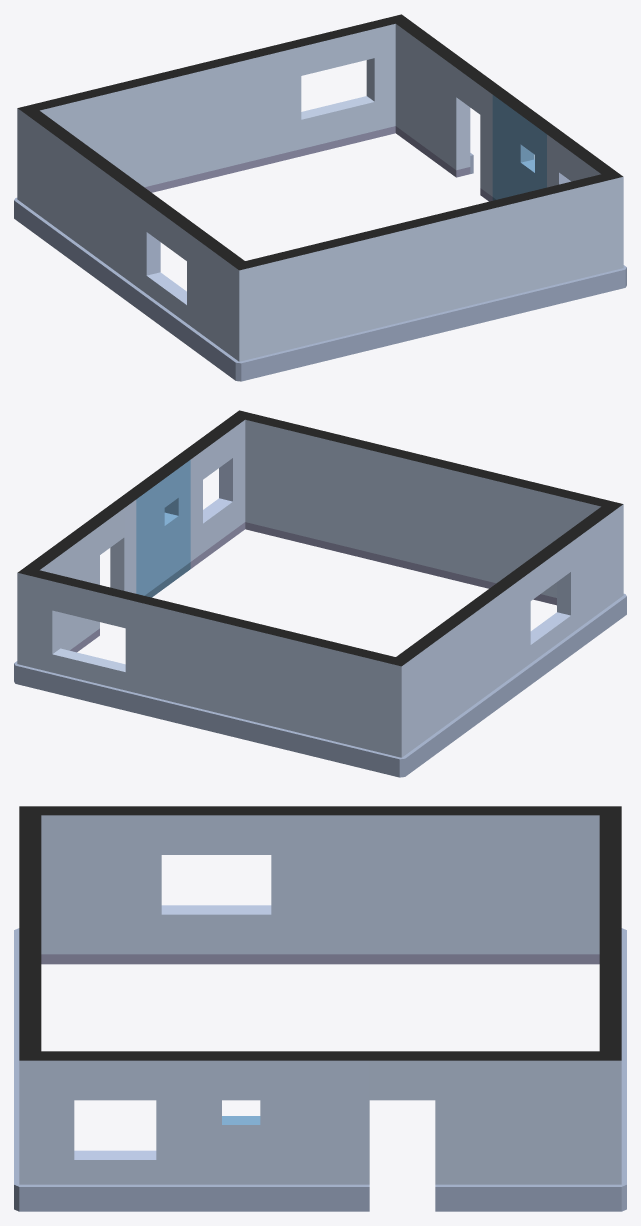
Rendered from GC_exterior_walls.fbx.
3 views of the same model, one above another, from view 1: azimuth 30°, elevation 25°; view 2: azimuth 150°, elevation 25°; view 3: azimuth 270°, elevation 25° (orthographic). The views are drawn at different scales.
Parts seen in each view (by area): view 1: house_exterior_wall_nw, house_exterior_wall_se, house_exterior_wall_s, house_exterior_wall_sw, house_exterior_wall_2_ne, house_exterior_wall_w, house_exterior_wall_2_e, house_exterior_wall_se.D, house_exterior_wall_s.D, house_exterior_wall_sw.D, house_exterior_wall_e, house_exterior_wall_nw.D (+2 smaller); view 2: house_exterior_wall_nw, house_exterior_wall_se, house_exterior_wall_sw, house_exterior_wall_w, house_exterior_wall_s, house_exterior_wall_nw.D, house_exterior_wall_2_ne, house_exterior_wall_2_e, house_exterior_wall_e, house_exterior_wall_sw.D, house_exterior_wall_w.D, house_exterior_wall_se.D; view 3: house_exterior_wall_sw, house_exterior_wall_w, house_exterior_wall_2_ne, house_exterior_wall_2_e, house_exterior_wall_e, house_exterior_wall_nw, house_exterior_wall_se, house_exterior_wall_2_ne.D, house_exterior_wall_2_e.D, house_exterior_wall_e.D, house_exterior_wall_sw.D, house_exterior_wall_w.D (+4 smaller).
Part boxes in pixels (box(x1,y1,x2,y2)): house_exterior_wall_nw: box(17, 14, 409, 204); house_exterior_wall_se: box(371, 171, 623, 327); house_exterior_wall_s: box(231, 230, 378, 361); house_exterior_wall_sw: box(118, 178, 244, 355); house_exterior_wall_2_ne: box(395, 20, 505, 196); house_exterior_wall_w: box(25, 110, 131, 272); house_exterior_wall_2_e: box(492, 91, 560, 199); house_exterior_wall_se.D: box(379, 265, 626, 347); house_exterior_wall_s.D: box(227, 328, 380, 381); house_exterior_wall_sw.D: box(114, 273, 230, 374); house_exterior_wall_e: box(547, 131, 614, 187); house_exterior_wall_nw.D: box(14, 126, 395, 223); house_exterior_wall_nw: box(17, 567, 409, 757); house_exterior_wall_se: box(231, 410, 483, 577); house_exterior_wall_sw: box(489, 506, 615, 683); house_exterior_wall_w: box(396, 589, 502, 751); house_exterior_wall_s: box(475, 470, 623, 600); house_exterior_wall_nw.D: box(14, 661, 413, 777); house_exterior_wall_2_ne: box(26, 496, 136, 650); house_exterior_wall_2_e: box(123, 456, 190, 595); house_exterior_wall_e: box(177, 416, 245, 561); house_exterior_wall_sw.D: box(503, 601, 618, 702); house_exterior_wall_w.D: box(410, 684, 505, 770); house_exterior_wall_se.D: box(245, 522, 475, 585); house_exterior_wall_sw: box(41, 806, 347, 954); house_exterior_wall_w: box(348, 806, 599, 954); house_exterior_wall_2_ne: box(337, 1051, 599, 1184); house_exterior_wall_2_e: box(189, 1051, 336, 1184); house_exterior_wall_e: box(41, 1051, 188, 1184); house_exterior_wall_nw: box(599, 806, 621, 1184); house_exterior_wall_se: box(19, 898, 41, 1184); house_exterior_wall_2_ne.D: box(337, 1184, 599, 1211); house_exterior_wall_2_e.D: box(189, 1184, 336, 1211); house_exterior_wall_e.D: box(41, 1184, 188, 1211); house_exterior_wall_sw.D: box(41, 954, 347, 964); house_exterior_wall_w.D: box(348, 954, 599, 964).
Size of the model in its own units: 11.2 by 11.2 by 3.
